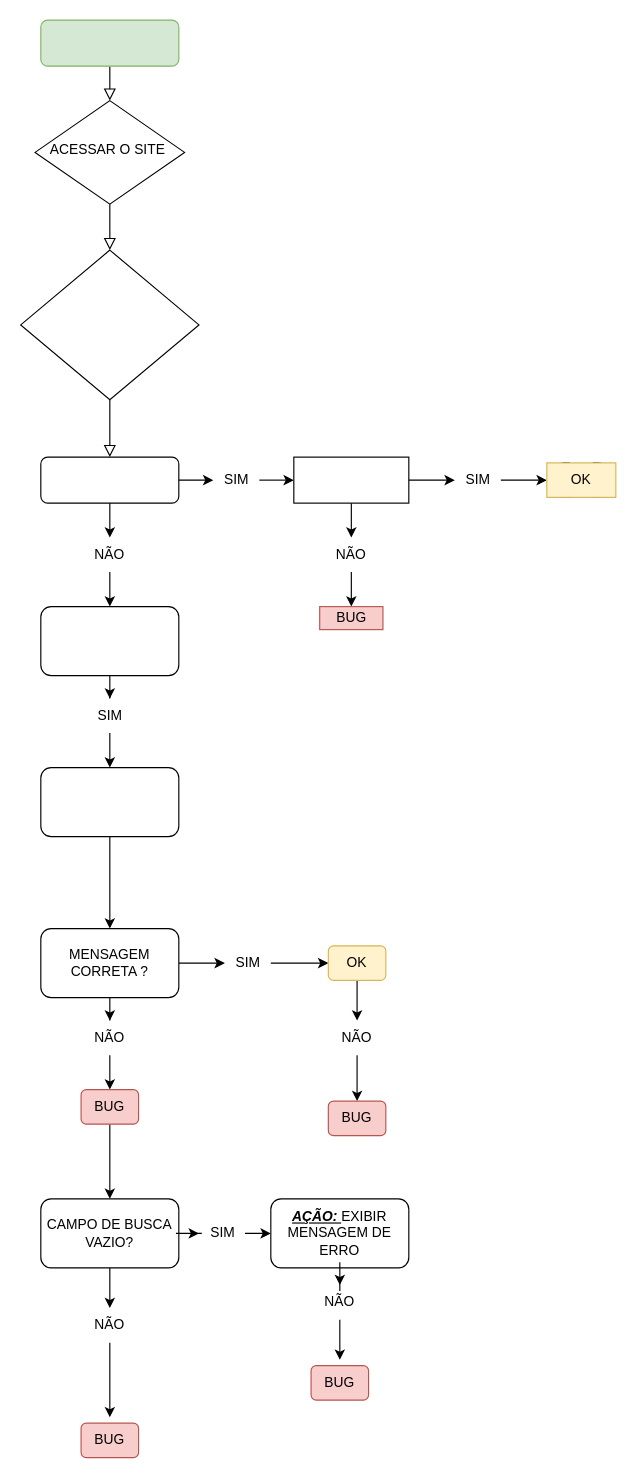
Image size: 636x1478. Some labels were removed from this diagram. Here are the shapes that lost their labels. From the top down, the centre of each, then its label:
At point 109,42: "INICIO".
At point 109,324: "INSERIR TEXTO NO CAMPO DE BUSCA".
At point 109,479: "O TEXTO É VÁLIDO ?".
At point 351,479: "RESULTADOS EXIBIDOS?".
At point 109,640: "PALAVRA INVÁLIDA?".
At point 109,801: "AÇÃO : EXIBIR MENSAGEM DE ERRO".
